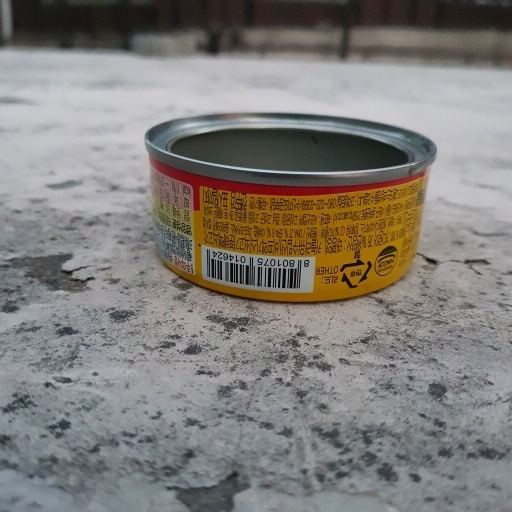Metal_1: (139, 107, 439, 308)
